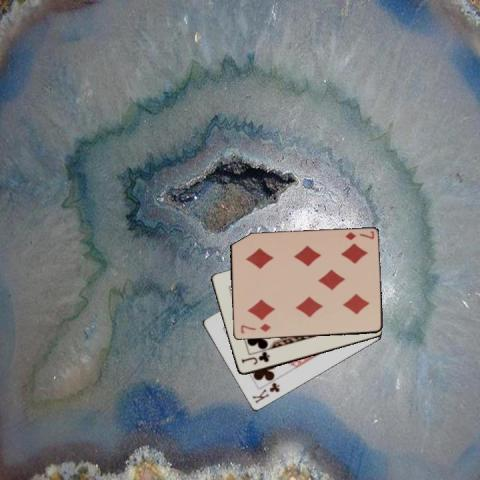7d: (237, 320, 272, 334), (342, 228, 375, 241)
Jc: (238, 350, 270, 366)
Kc: (250, 380, 282, 405)
